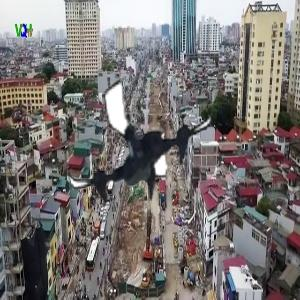drone: (64, 71, 216, 223)
